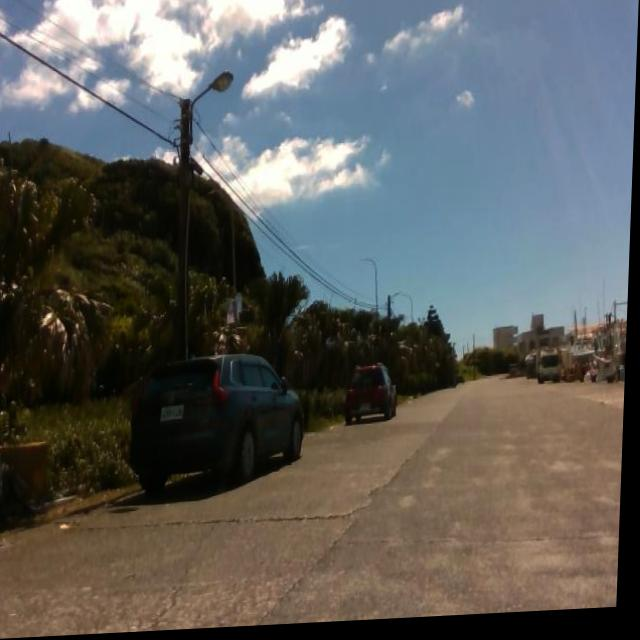pollute: (0, 438, 60, 531)
